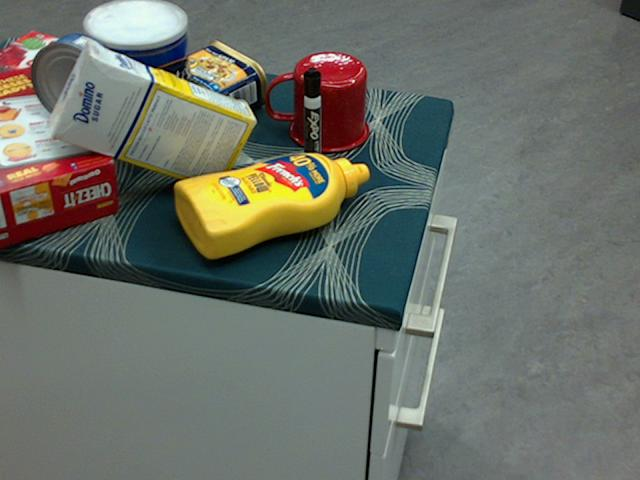cracker_box: (0, 67, 119, 245)
gelatin_box: (0, 32, 84, 94)
large_marker: (301, 67, 321, 174)
master_chef_can: (85, 0, 192, 162)
mug: (265, 51, 367, 152)
mustard_bottle: (173, 152, 369, 258)
potted_meat_can: (156, 40, 267, 129)
sugar_box: (50, 43, 257, 189)
tomato_soup_can: (65, 20, 145, 113)
tuna_fish_can: (30, 34, 123, 126)
